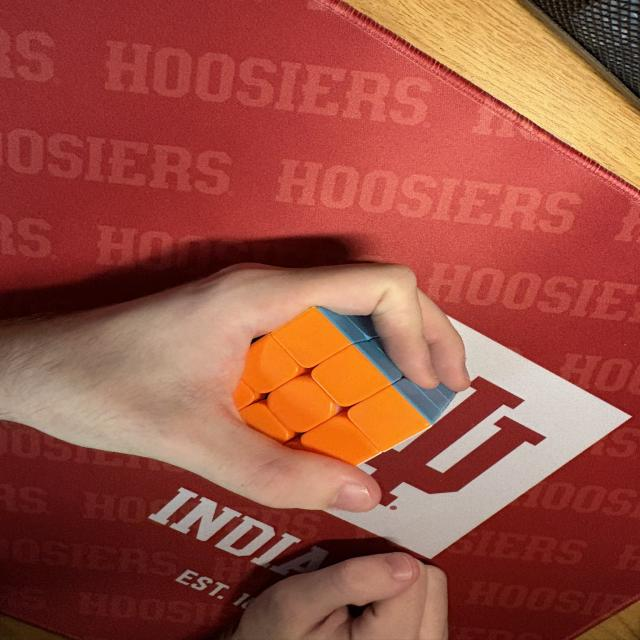Rubiks Cube: (234, 306, 459, 466)
